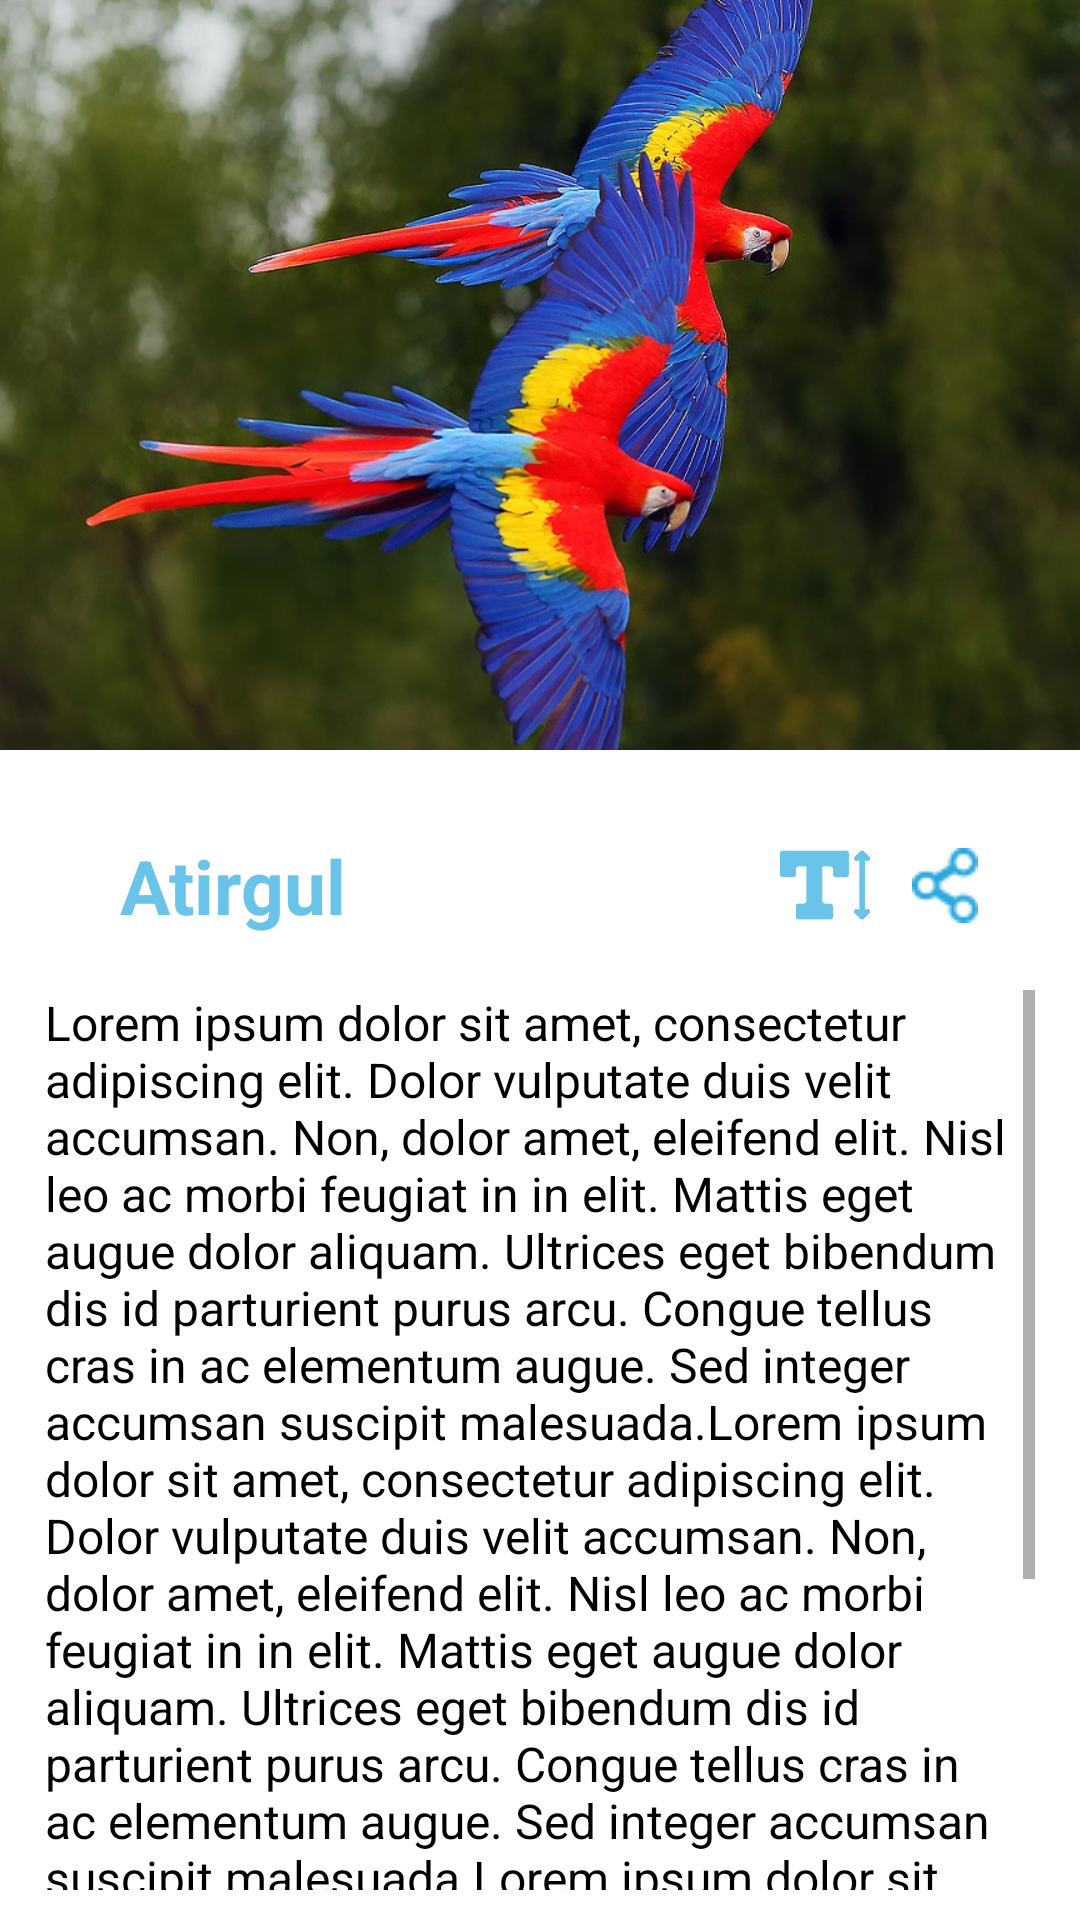

Icons on this 1080 × 1920 Android screen, each with its box as (x1, y1, x2, y2):
font: (780, 850, 870, 920)
share: (912, 848, 978, 923)
